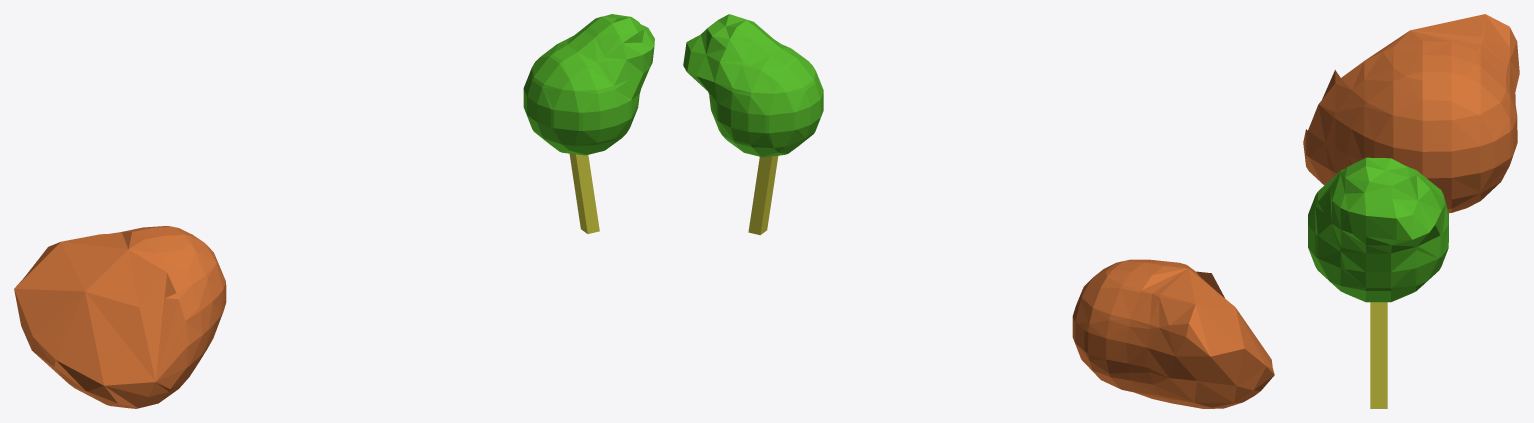
Rendered from obstacle1.fbx.
3 views of the same model, side by side, from view 1: azimuth 30°, elevation 25°; view 2: azimuth 150°, elevation 25°; view 3: azimuth 270°, elevation 25° (orthographic). The views are drawn at different scales.
Parts seen in each view (by area): view 1: rock, Mball.001, tree; view 2: rock, Mball.001, tree; view 3: rock, Mball.001, tree.
Boxes of the visible parts, <box> form: rock: <box>14,226,226,408</box>; Mball.001: <box>523,14,654,155</box>; tree: <box>569,153,599,233</box>; rock: <box>1072,259,1274,408</box>; Mball.001: <box>683,14,823,157</box>; tree: <box>748,155,778,235</box>; rock: <box>1303,14,1519,213</box>; Mball.001: <box>1308,157,1448,302</box>; tree: <box>1370,302,1387,408</box>.
Bounding box in the file's own units: 910 × 387 × 227.
